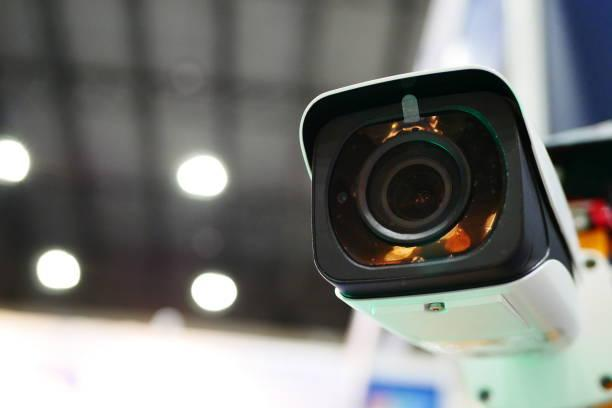camera: (271, 32, 592, 370)
